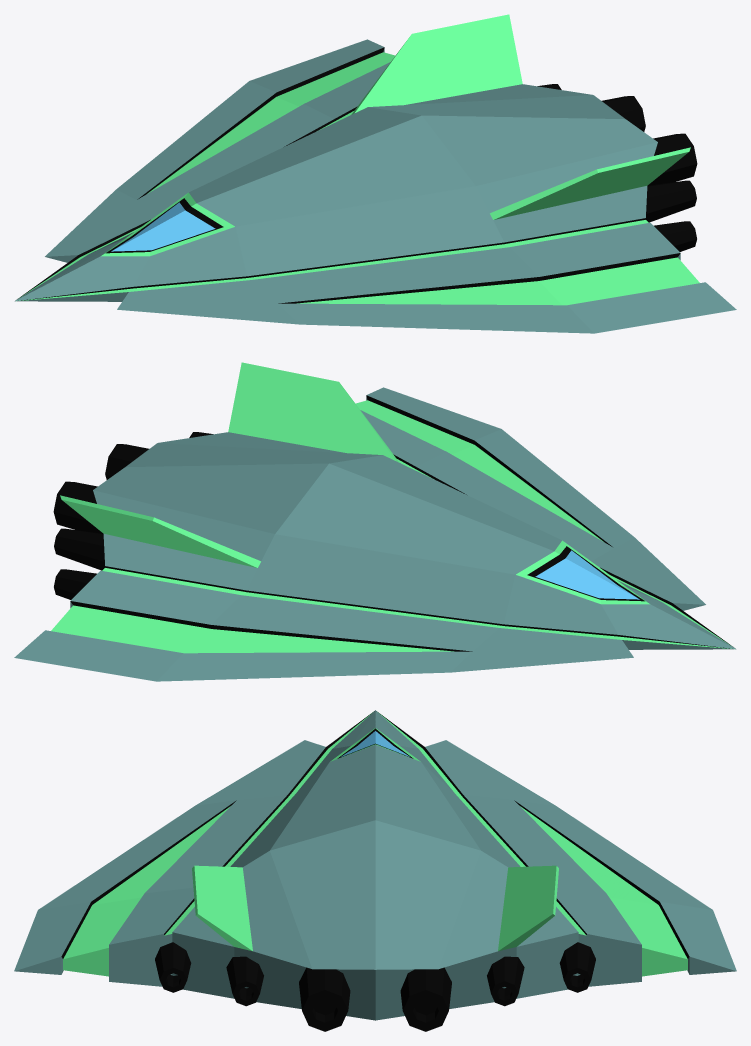
Rendered from scout3.fbx.
3 views of the same model, one above another, from view 1: azimuth 30°, elevation 25°; view 2: azimuth 150°, elevation 25°; view 3: azimuth 270°, elevation 25° (orthographic). The views are drawn at different scales.
Parts seen in each view (by area): view 1: Scout3; view 2: Scout3; view 3: Scout3.
Part boxes in pixels (x1,y1,x2,y2): Scout3: [14, 14, 736, 333]; Scout3: [14, 362, 736, 681]; Scout3: [14, 710, 736, 1031].
Size of the model in its own units: 553 by 117 by 549.
